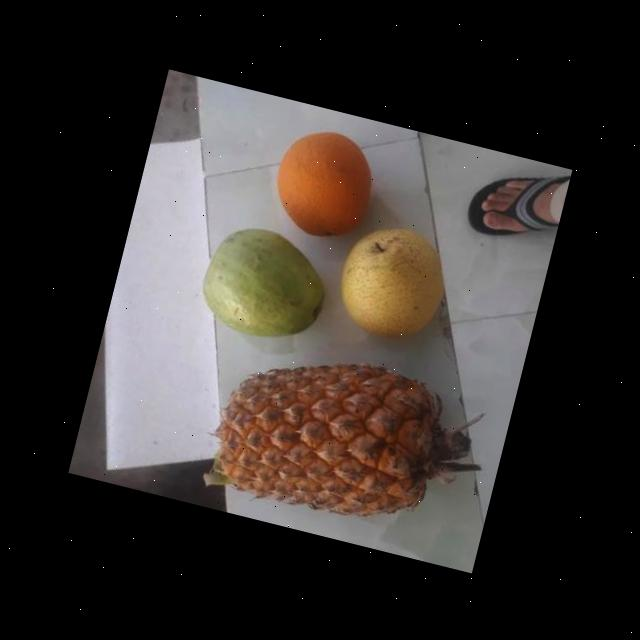guava: (190, 218, 335, 355)
orange: (265, 118, 384, 248)
pear: (330, 212, 458, 351)
pineapple: (208, 340, 448, 540)
